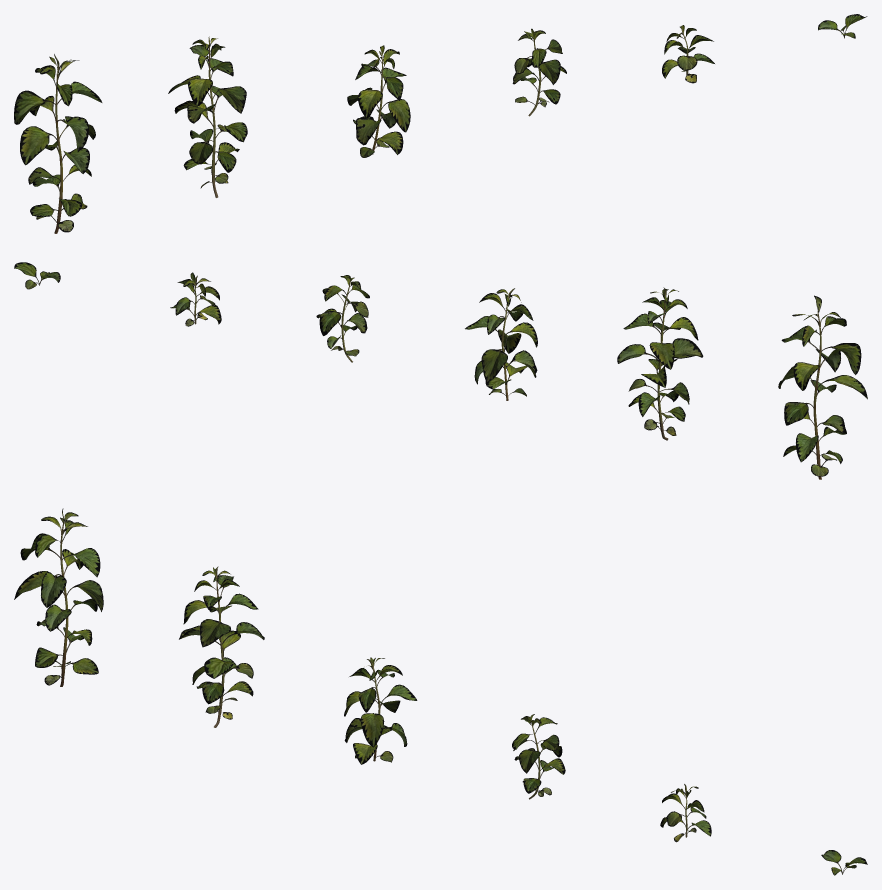
File: nettle_plant.gltf
3 renders of one model, top to bottom at view 1: azimuth 30°, elevation 25°; view 2: azimuth 150°, elevation 25°; view 3: azimuth 330°, elevation 25°, orthographic.
Parts seen in each view (by area): view 1: nettle_plant_tall_a_LOD0, nettle_plant_tall_b_LOD0, nettle_plant_medium_a_LOD0, nettle_plant_medium_b_LOD0, nettle_plant_small_a_LOD0; view 2: nettle_plant_tall_a_LOD0, nettle_plant_tall_b_LOD0, nettle_plant_medium_a_LOD0, nettle_plant_medium_b_LOD0, nettle_plant_small_a_LOD0, nettle_plant_small_b_LOD0; view 3: nettle_plant_tall_a_LOD0, nettle_plant_tall_b_LOD0, nettle_plant_medium_a_LOD0, nettle_plant_medium_b_LOD0, nettle_plant_small_a_LOD0.
Boxes of the visible parts, bbox=[...] form: nettle_plant_tall_a_LOD0: bbox=[14, 54, 102, 233]; nettle_plant_tall_b_LOD0: bbox=[168, 36, 247, 197]; nettle_plant_medium_a_LOD0: bbox=[347, 45, 410, 157]; nettle_plant_medium_b_LOD0: bbox=[512, 28, 566, 116]; nettle_plant_small_a_LOD0: bbox=[662, 25, 714, 83]; nettle_plant_tall_a_LOD0: bbox=[778, 295, 867, 479]; nettle_plant_tall_b_LOD0: bbox=[617, 287, 703, 440]; nettle_plant_medium_a_LOD0: bbox=[465, 288, 537, 400]; nettle_plant_medium_b_LOD0: bbox=[316, 275, 369, 362]; nettle_plant_small_a_LOD0: bbox=[170, 272, 221, 326]; nettle_plant_small_b_LOD0: bbox=[14, 262, 60, 289]; nettle_plant_tall_a_LOD0: bbox=[14, 508, 103, 686]; nettle_plant_tall_b_LOD0: bbox=[179, 566, 264, 727]; nettle_plant_medium_a_LOD0: bbox=[344, 657, 417, 764]; nettle_plant_medium_b_LOD0: bbox=[512, 714, 565, 799]; nettle_plant_small_a_LOD0: bbox=[660, 784, 711, 842].
Size of the model in its own units: 1.08 by 0.2184 by 0.0947.
Materials: 1 (1 with a texture image).
